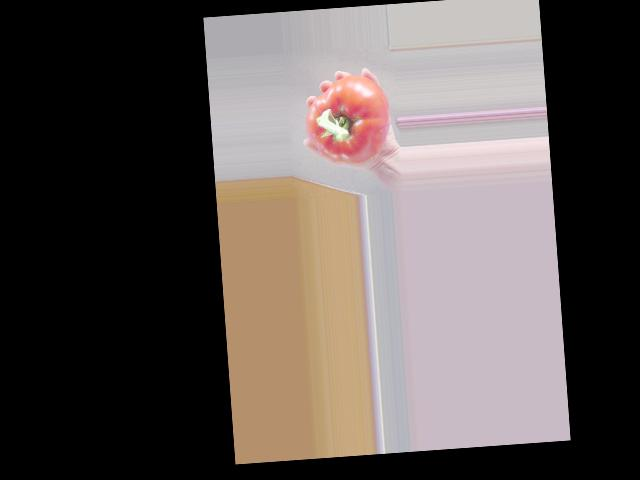tomato: (302, 72, 393, 166)
